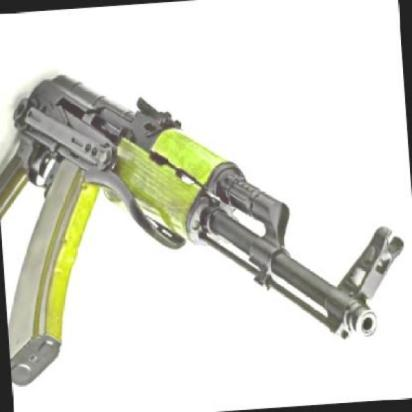Gun: (1, 37, 388, 410)
